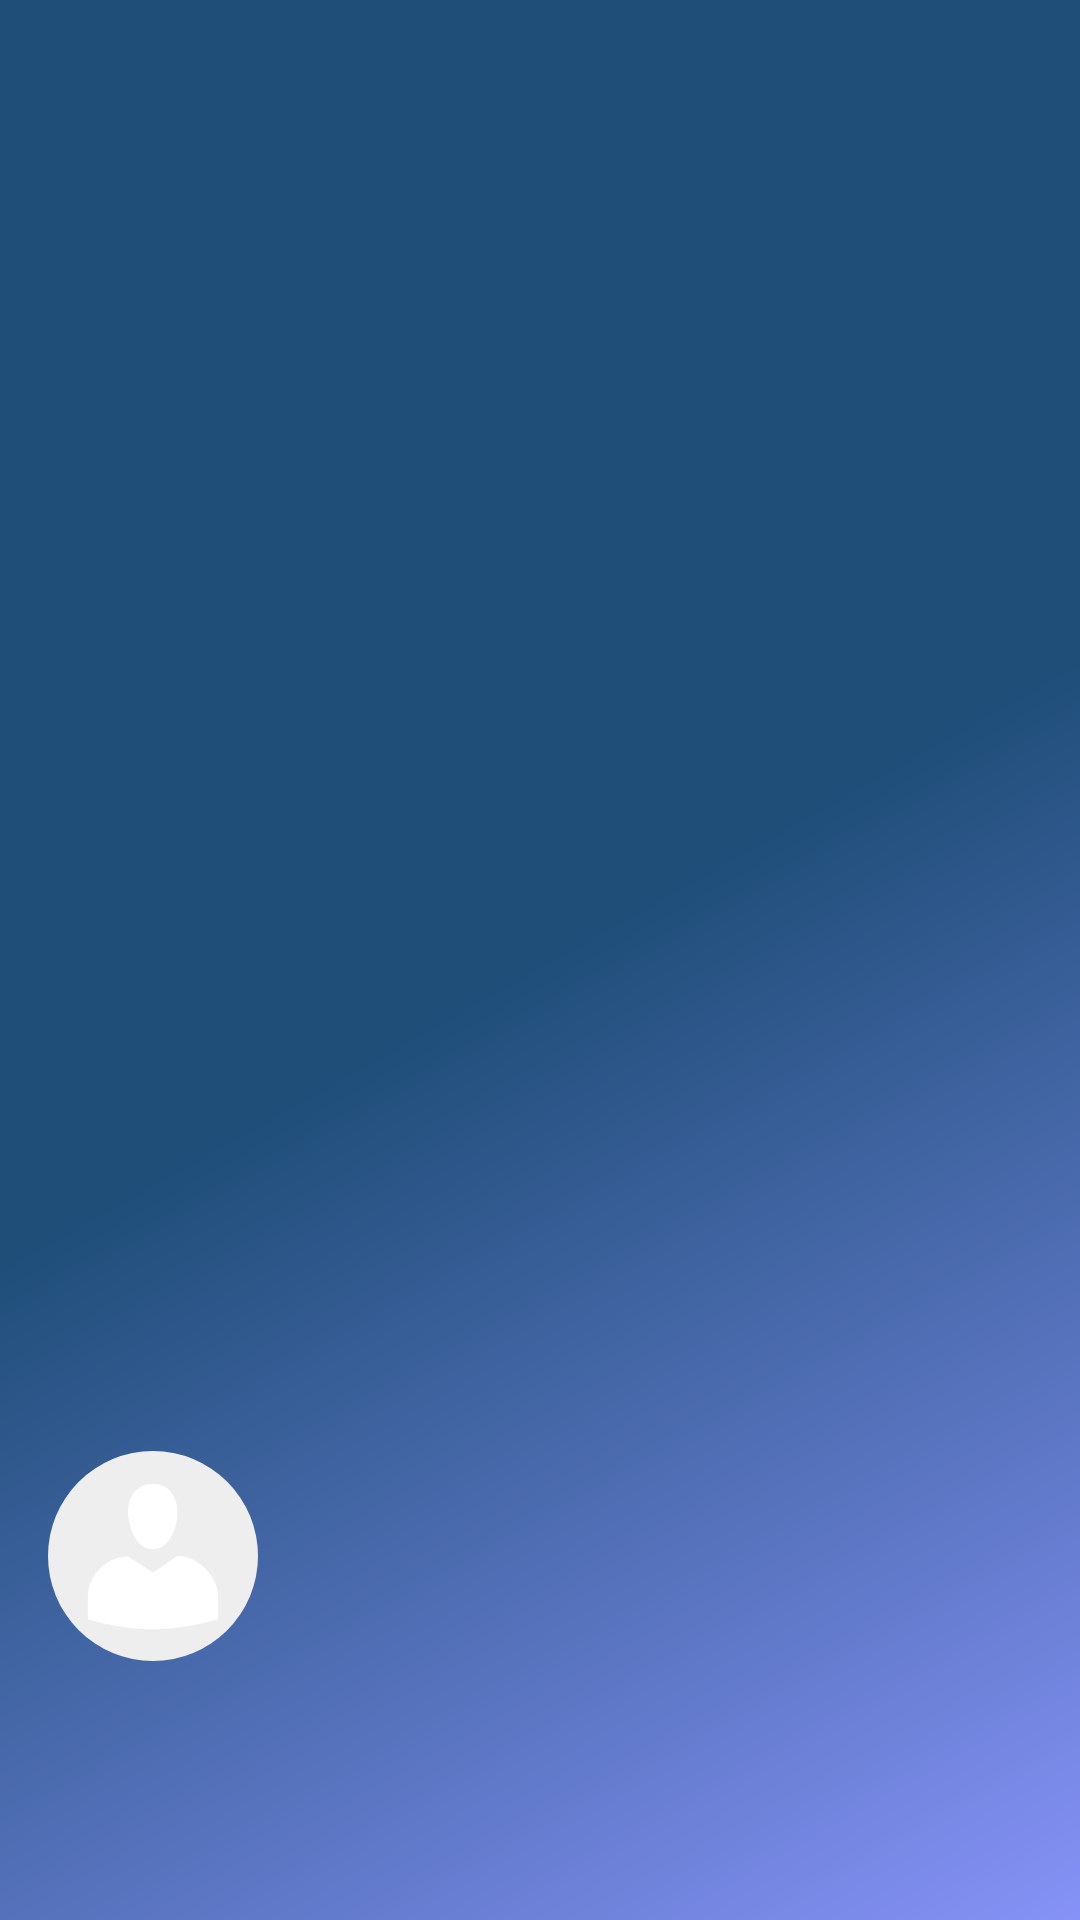

Locate icon controls on the screen. Image size 1080*1920, boxes as (x1, y1, x2, y2).
User Icon: (48, 1451, 258, 1661)
